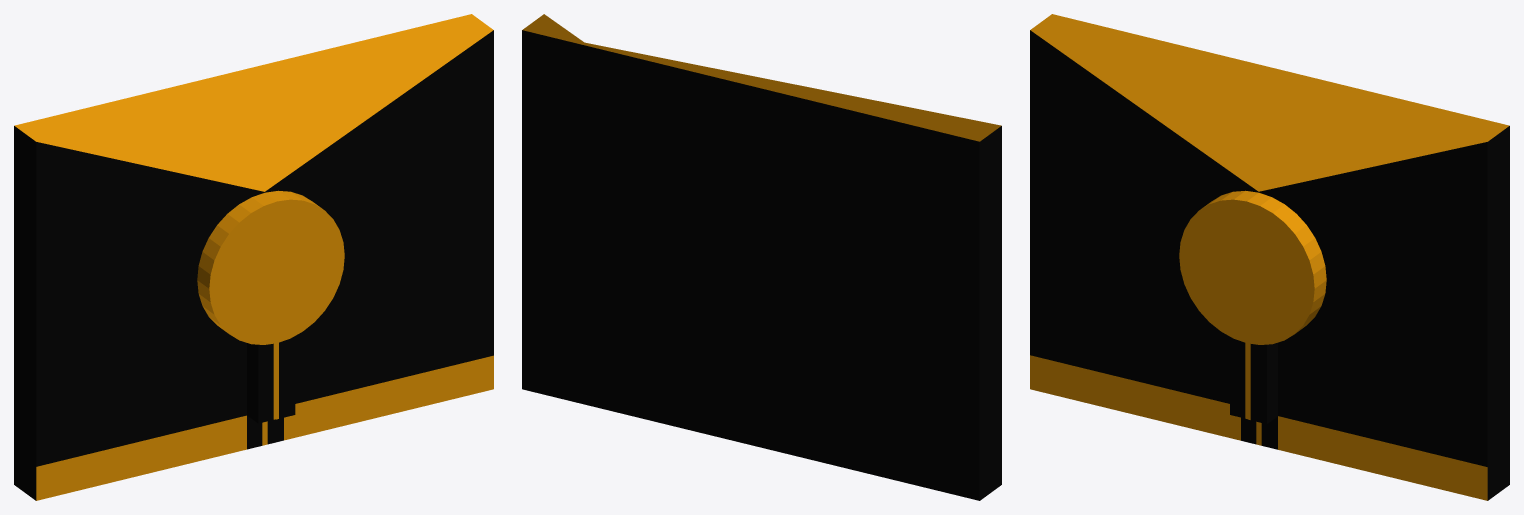
Rendered from Gate.fbx.
3 renders of one model, left to right at view 1: azimuth 30°, elevation 25°; view 2: azimuth 150°, elevation 25°; view 3: azimuth 330°, elevation 25°, orthographic.
Visible parts, largest first — view 1: Gate; view 2: Gate; view 3: Gate.
Part boxes in pixels (x1,y1,x2,y2): Gate: (14, 14, 493, 500); Gate: (522, 14, 1001, 500); Gate: (1030, 14, 1509, 500).
Bounding box in the file's own units: 1200 × 900 × 155.
